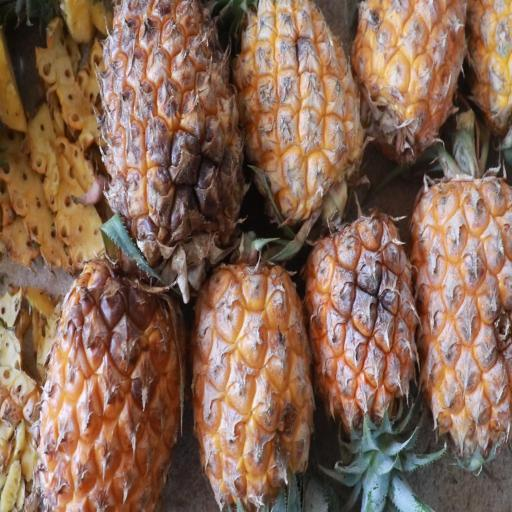Pineapple - v8 v1: (38, 217, 190, 512), (95, 0, 243, 259), (184, 238, 316, 512), (409, 149, 512, 468), (234, 6, 371, 226), (304, 198, 422, 426), (351, 0, 470, 128)
